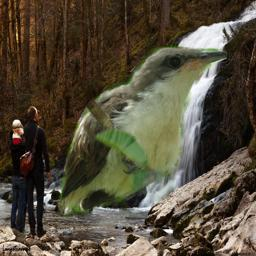Cuckoo: (56, 45, 227, 218)
